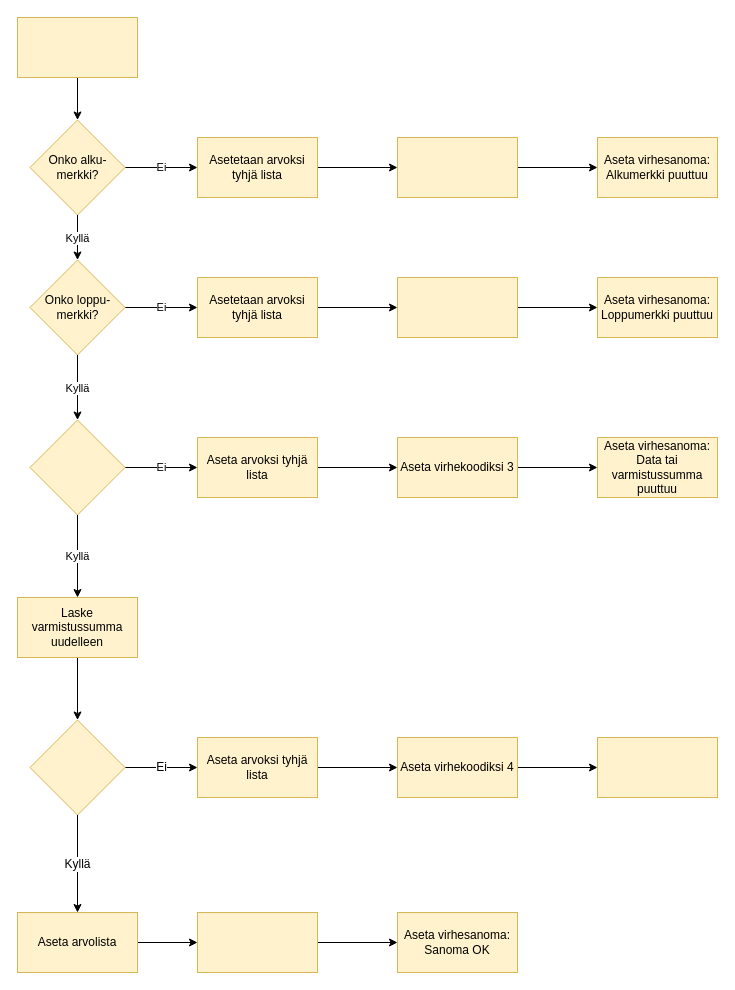
This 735x990 diagram has some shape labels left out. Here are the shapes that lost their labels. From the top down, the centre of each, then its label:
point (77, 47): Lue funktion argumentit
point (457, 167): Aseta virhekoodiksi 1
point (457, 307): Aseta virhekoodiksi 2
point (77, 467): Osia >= 2
point (77, 767): Sama kuin sanomassa?
point (657, 767): Aseta virhesanoma: Varmistussumma virheellinen
point (257, 942): Aseta virhekoodiksi 0
